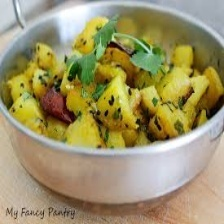sabzi: (5, 19, 224, 153)
